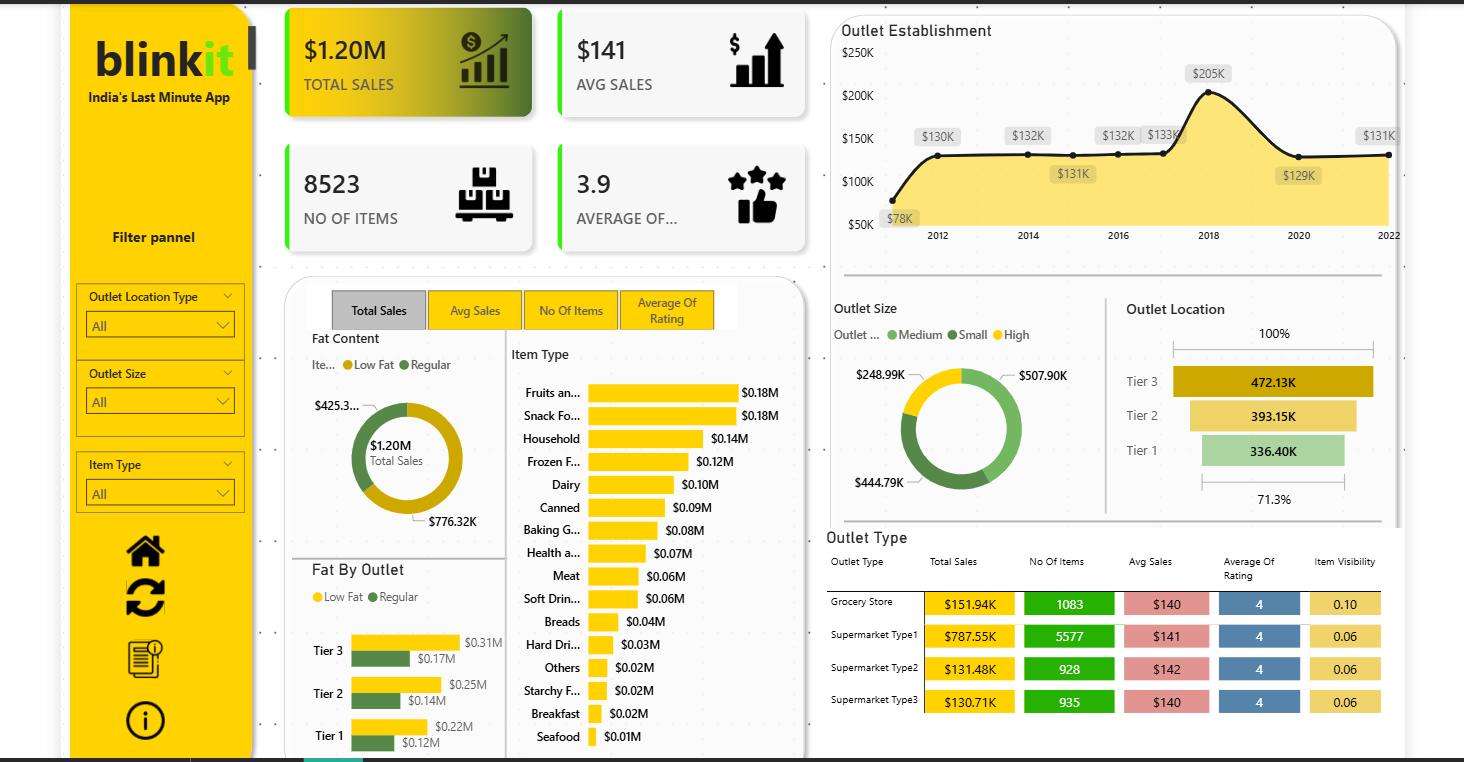

The page's visual inventory and layout, read from the dashboard file:
{"tool":"powerbi","page":{"name":"Page 1","canvas":[1400,1000],"ordinal":0},"visuals":[{"type":"shape","box":[0,0,208,832],"z":0},{"type":"textbox","box":[16,32,192,64],"z":1000},{"type":"textbox","box":[24,96,168,48],"z":2000},{"type":"cardVisual","fields":{"Data":["BlinkIT Grocery Data.Total Sales","BlinkIT Grocery Data.Avg Sales","BlinkIT Grocery Data.No Of Items","BlinkIT Grocery Data.Average Of Rating"]},"box":[216,0,576,288],"z":3000},{"type":"shape","box":[224,288,560,544],"z":4000},{"type":"slicer","fields":{"Values":["MATRIX .MATRIX "]},"box":[256,304,448,48],"z":5000},{"type":"donutChart","title":" Fat Content","fields":{"Y":["BlinkIT Grocery Data.Total Sales"],"Category":["BlinkIT Grocery Data.Item Fat Content"]},"box":[256,352,208,224],"z":6000},{"type":"cardVisual","fields":{"Data":["BlinkIT Grocery Data.Total Sales"]},"box":[304,400,128,160],"z":7000},{"type":"clusteredBarChart","title":"Fat By Outlet ","fields":{"Y":["BlinkIT Grocery Data.Total Sales"],"Category":["BlinkIT Grocery Data.Outlet Location Type"],"Series":["BlinkIT Grocery Data.Item Fat Content"]},"box":[256,592,208,224],"z":8000},{"type":"shape","box":[240,560,224,64],"z":9000},{"type":"shape","box":[432,352,64,480],"z":10000},{"type":"barChart","title":"Item Type","fields":{"Y":["BlinkIT Grocery Data.Total Sales"],"Category":["BlinkIT Grocery Data.Item Type"]},"box":[464,368,288,432],"z":11000},{"type":"shape","box":[792,16,608,816],"z":12000},{"type":"lineChart","title":" Outlet Establishment ","fields":{"Category":["BlinkIT Grocery Data.Outlet Establishment Year"],"Y":["BlinkIT Grocery Data.Total Sales"]},"box":[808,32,592,240],"z":13000},{"type":"shape","box":[816,256,560,80],"z":14000},{"type":"donutChart","title":"Outlet Size","fields":{"Y":["BlinkIT Grocery Data.Total Sales"],"Category":["BlinkIT Grocery Data.Outlet Size"]},"box":[800,320,275,225],"z":15000},{"type":"shape","box":[1056,320,64,224],"z":16000},{"type":"funnel","title":" Outlet Location ","fields":{"Y":["Sum(BlinkIT Grocery Data.Sales)"],"Category":["BlinkIT Grocery Data.Outlet Location Type"]},"box":[1104,320,272,224],"z":17000},{"type":"shape","box":[816,512,560,80],"z":18000},{"type":"pivotTable","title":"Outlet Type ","fields":{"Rows":["BlinkIT Grocery Data.Outlet Type"],"Values":["BlinkIT Grocery Data.Total Sales","BlinkIT Grocery Data.No Of Items","BlinkIT Grocery Data.Avg Sales","BlinkIT Grocery Data.Average Of Rating","Avg(BlinkIT Grocery Data.Item Visibility)"]},"box":[792,560,608,256],"z":19000},{"type":"slicer","fields":{"Values":["BlinkIT Grocery Data.Outlet Location Type"]},"box":[16,304,176,80],"z":20000},{"type":"slicer","fields":{"Values":["BlinkIT Grocery Data.Outlet Size"]},"box":[16,384,176,80],"z":21000},{"type":"slicer","fields":{"Values":["BlinkIT Grocery Data.Item Type"]},"box":[16,480,176,64],"z":22000},{"type":"textbox","box":[48,240,128,48],"z":23000},{"type":"actionButton","box":[64,560,48,48],"z":24000},{"type":"actionButton","box":[64,608,48,48],"z":25000},{"type":"actionButton","box":[64,672,48,48],"z":26000},{"type":"actionButton","box":[64,736,48,48],"z":27000}]}

Visuals, with their boxes on the page's 1400x1000 design canvas (x1, y1, x2, y2). These are canvas units, not pixel positions in the 1464x762 screenshot, which may show the page scaled, cropped or inside an application window:
shape: 0:0:208:832
textbox: 16:32:208:96
textbox: 24:96:192:144
cardVisual - BlinkIT Grocery Data.Total Sales x BlinkIT Grocery Data.Avg Sales: 216:0:792:288
shape: 224:288:784:832
slicer - MATRIX .MATRIX : 256:304:704:352
" Fat Content" donutChart: 256:352:464:576
cardVisual - BlinkIT Grocery Data.Total Sales: 304:400:432:560
"Fat By Outlet " clusteredBarChart: 256:592:464:816
shape: 240:560:464:624
shape: 432:352:496:832
"Item Type" barChart: 464:368:752:800
shape: 792:16:1400:832
" Outlet Establishment " lineChart: 808:32:1400:272
shape: 816:256:1376:336
"Outlet Size" donutChart: 800:320:1075:545
shape: 1056:320:1120:544
" Outlet Location " funnel: 1104:320:1376:544
shape: 816:512:1376:592
"Outlet Type " pivotTable: 792:560:1400:816
slicer - BlinkIT Grocery Data.Outlet Location Type: 16:304:192:384
slicer - BlinkIT Grocery Data.Outlet Size: 16:384:192:464
slicer - BlinkIT Grocery Data.Item Type: 16:480:192:544
textbox: 48:240:176:288
actionButton: 64:560:112:608
actionButton: 64:608:112:656
actionButton: 64:672:112:720
actionButton: 64:736:112:784
